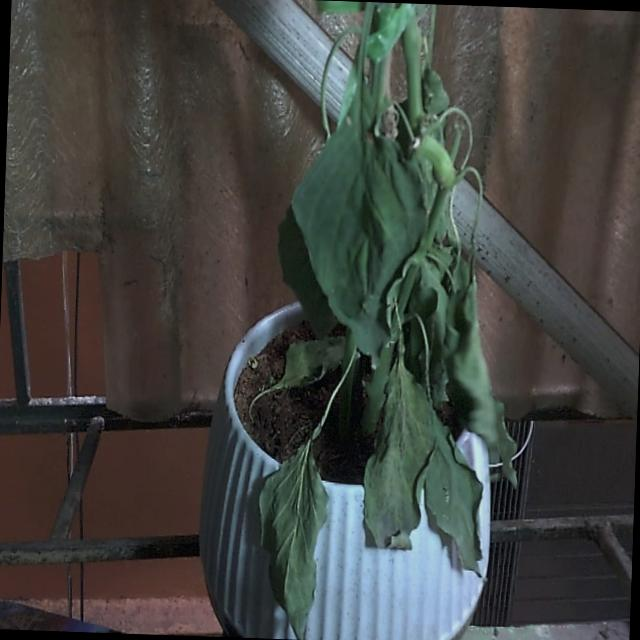Leaf: (292, 120, 427, 362), (447, 264, 516, 485), (365, 353, 435, 547), (259, 440, 327, 639), (419, 425, 483, 574), (279, 207, 336, 337), (249, 336, 345, 411)
